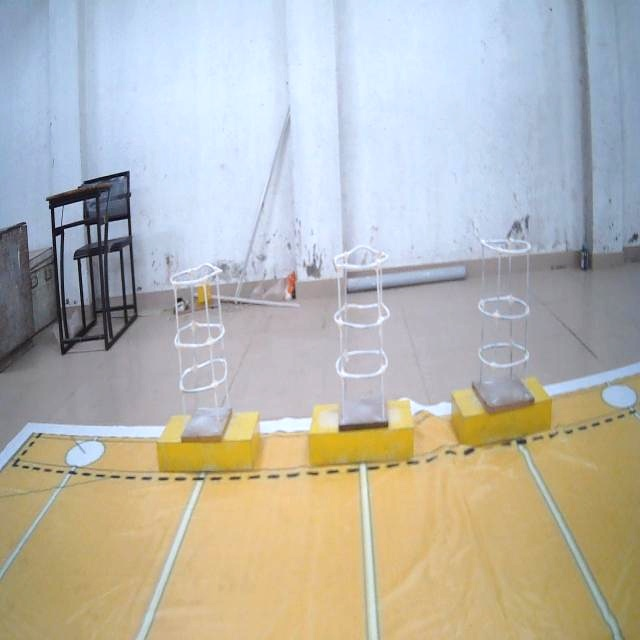silo: (465, 215, 544, 439), (323, 234, 402, 438), (163, 252, 240, 452)
